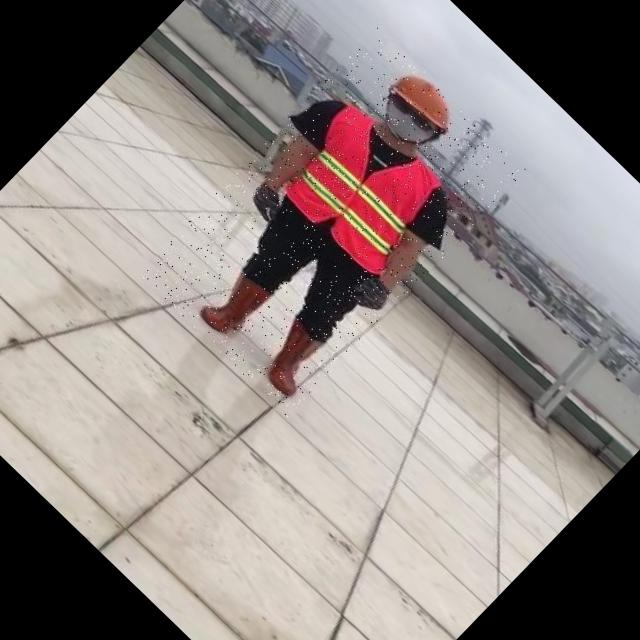hard_hat: (384, 60, 462, 137)
safety_vest: (270, 95, 456, 279)
vehicle: (138, 26, 526, 418)
work_boots: (246, 314, 337, 406), (193, 264, 274, 346)
